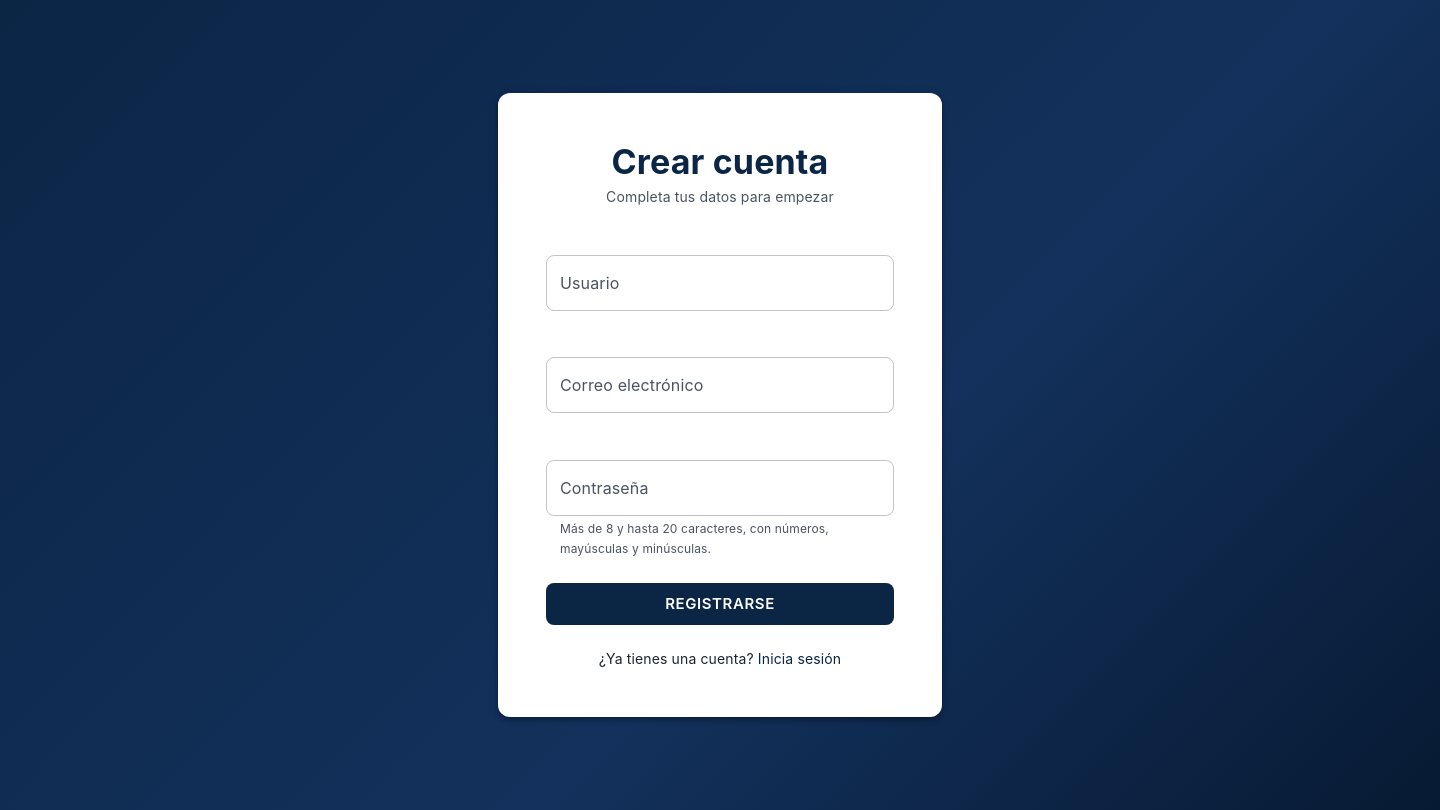
Scenario: RegisterPage › rejects an invalid email format
Step 1. Type "arivel" into the field with test id "register-username" → [720, 282], box [546,254,894,310]
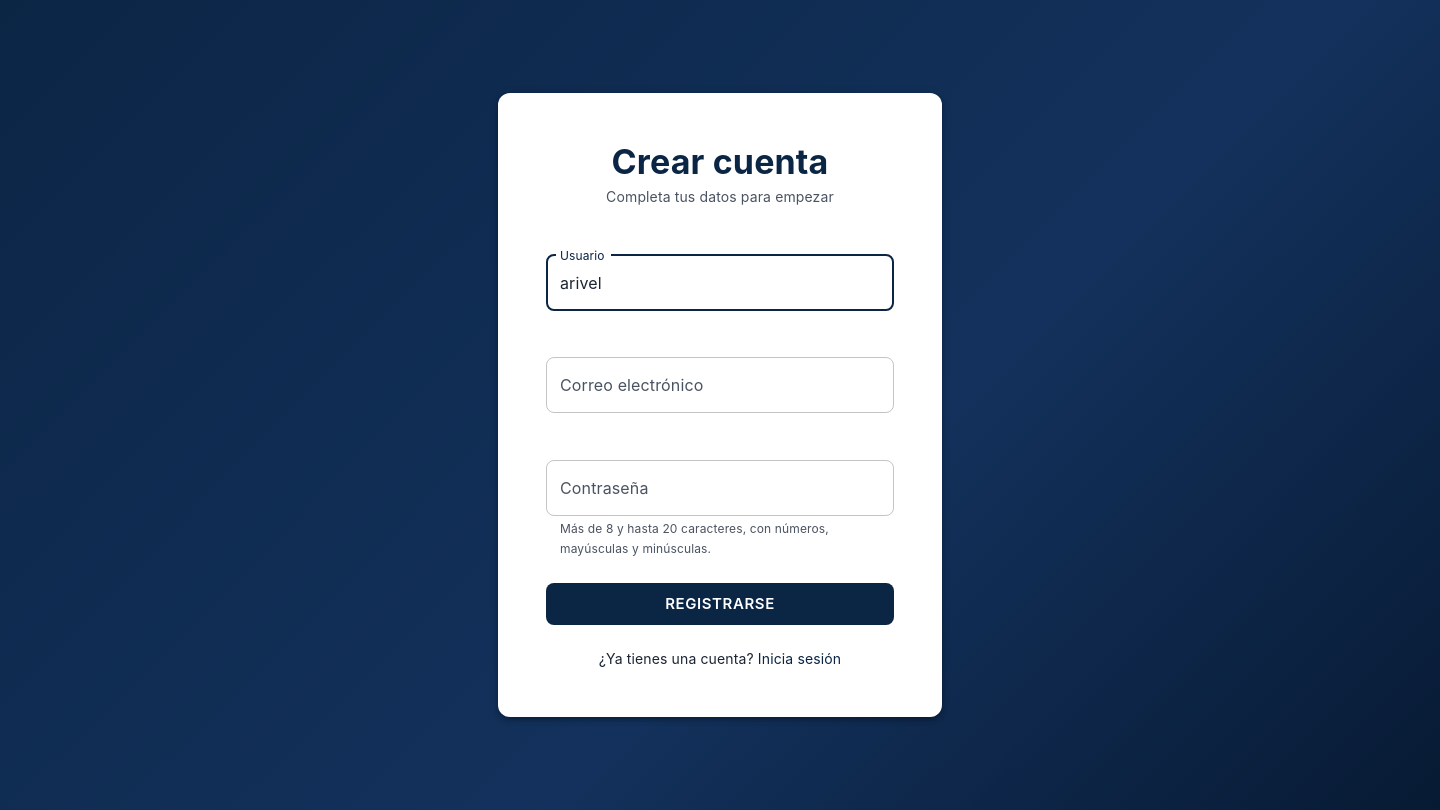
Step 2. Type "not-an-email" into the field with test id "register-email" → [720, 386], box [546,358,894,414]
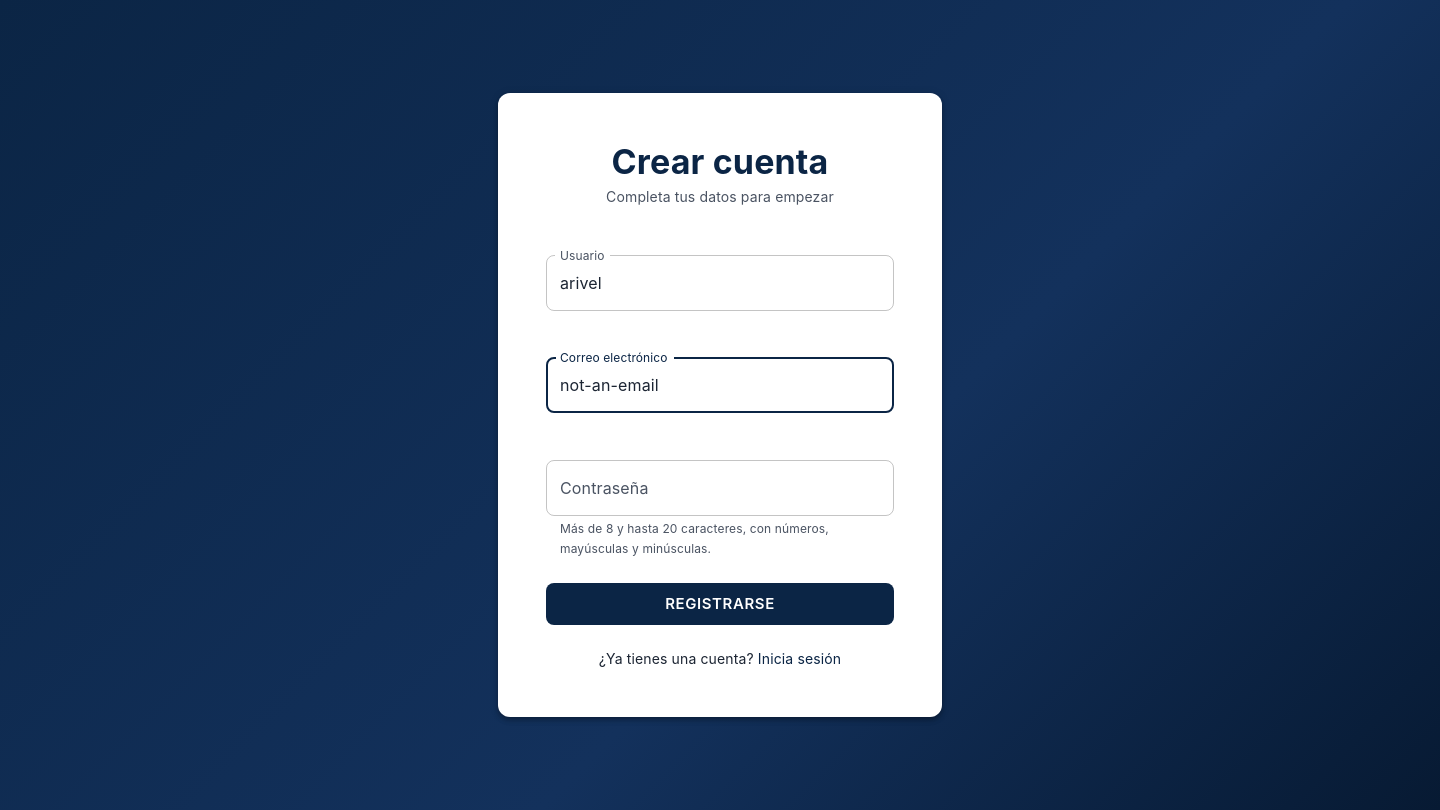
Step 3. Type "Abcdefghi1" into the password field with test id "register-password" → [720, 488], box [546,460,894,516]
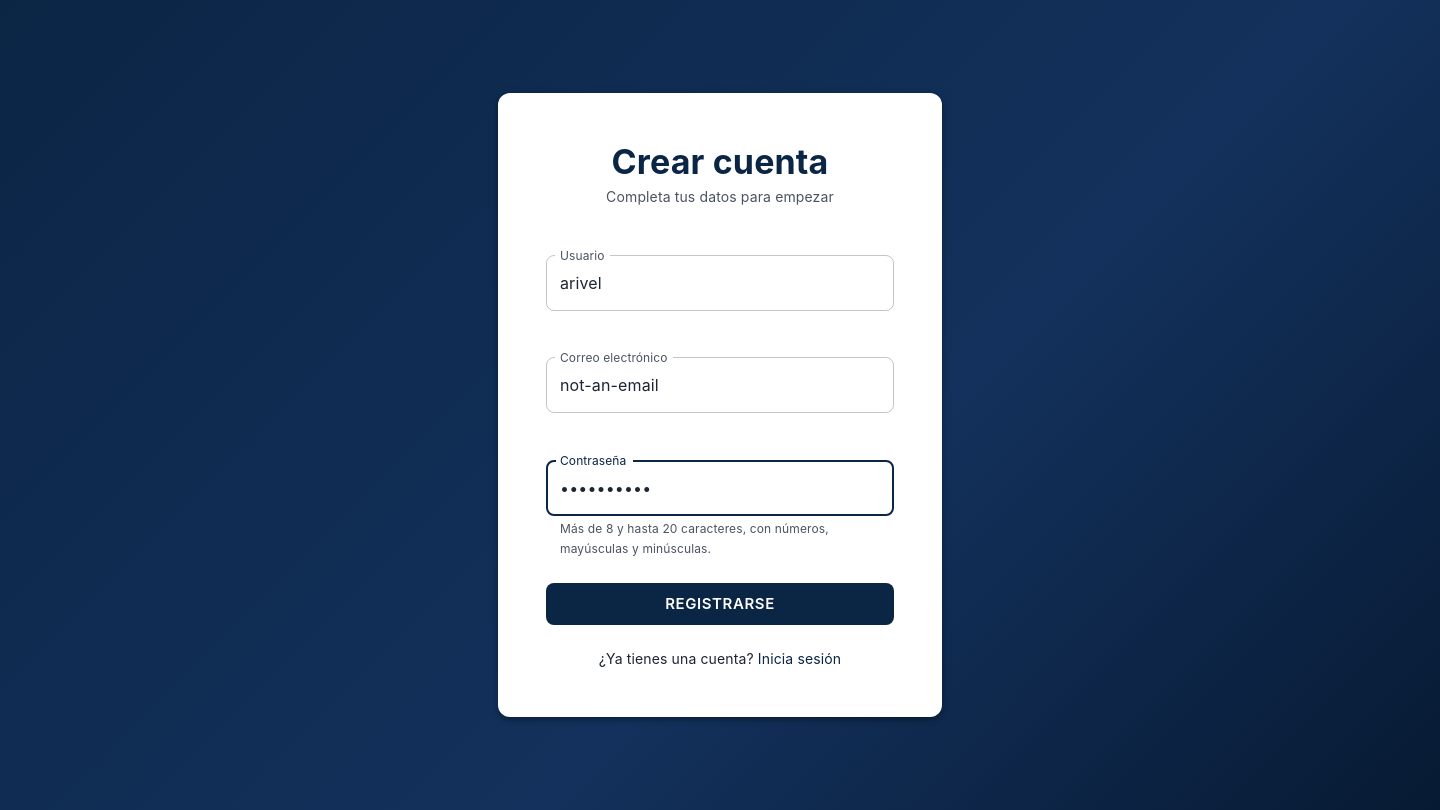
Step 4. Click the button with test id "register-submit" → [720, 604], box [546,583,894,626]
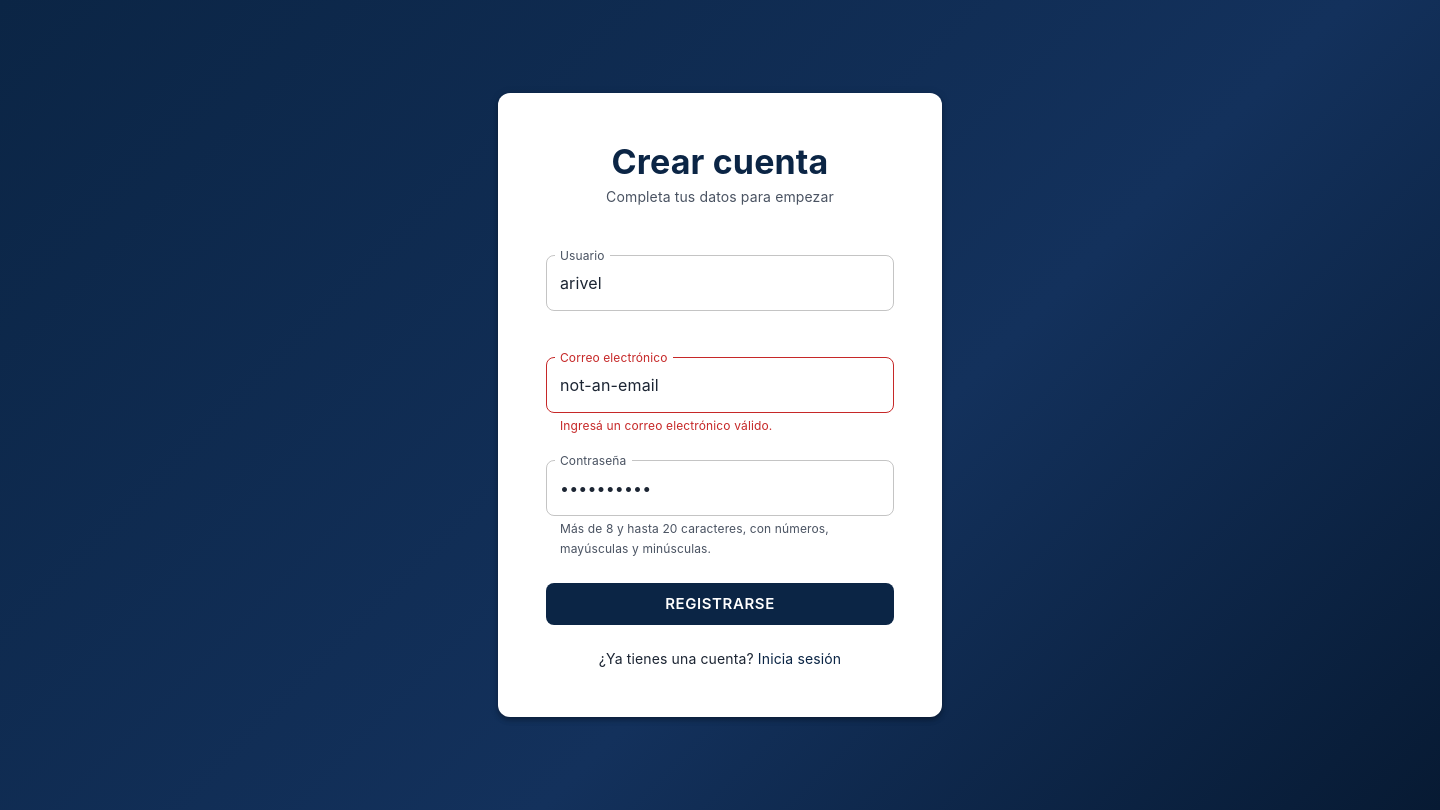
expect the text "Ingresá un correo electrónico válido." is shown: met, box [560,418,772,434]
